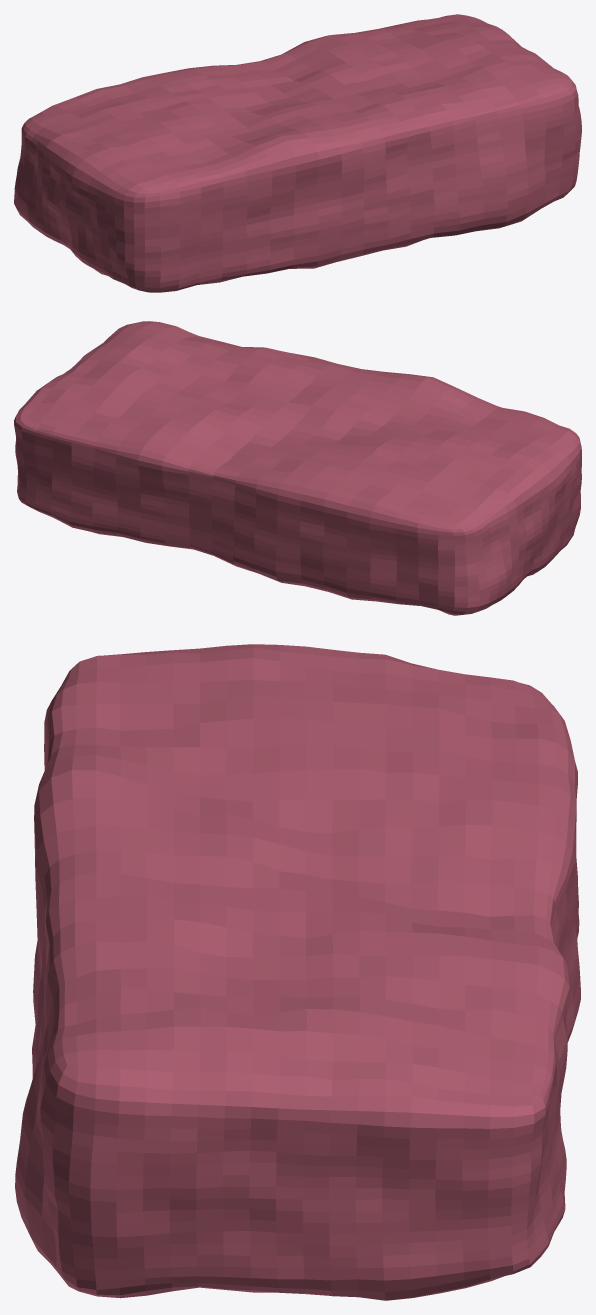
3 renders of one model, top to bottom at view 1: azimuth 30°, elevation 25°; view 2: azimuth 150°, elevation 25°; view 3: azimuth 270°, elevation 25°, orthographic. The views are drawn at different scales.
Visible parts, largest first — view 1: Pillow; view 2: Pillow; view 3: Pillow.
Boxes of the visible parts, x1,y1,x2,y2 form: Pillow: (14, 14, 581, 292); Pillow: (14, 321, 581, 615); Pillow: (15, 644, 580, 1300).
Bounding box in the file's own units: 1.23 × 0.3389 × 0.6387.
